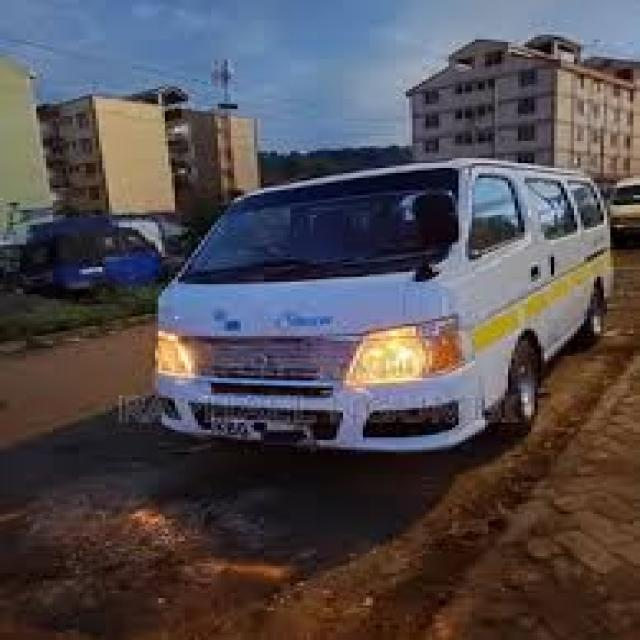matatu: (112, 84, 629, 504)
